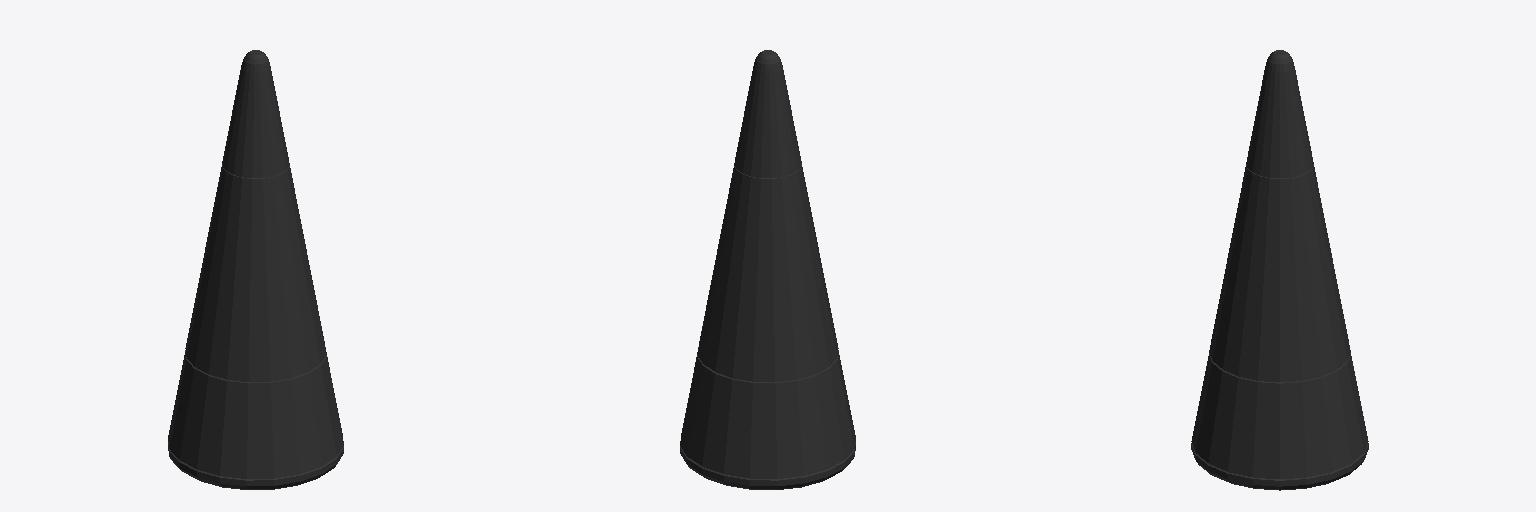
3 views of the same model, side by side, from view 1: azimuth 30°, elevation 25°; view 2: azimuth 150°, elevation 25°; view 3: azimuth 270°, elevation 25° (orthographic).
Parts seen in each view (by area): view 1: Warhead02_Mesh.006; view 2: Warhead02_Mesh.006; view 3: Warhead02_Mesh.006.
Part boxes in pixels (x1,y1,x2,y2): Warhead02_Mesh.006: (168,50,343,489); Warhead02_Mesh.006: (680,50,855,489); Warhead02_Mesh.006: (1191,50,1368,490).
Bounding box in the file's own units: 1.58 × 3.99 × 1.58.